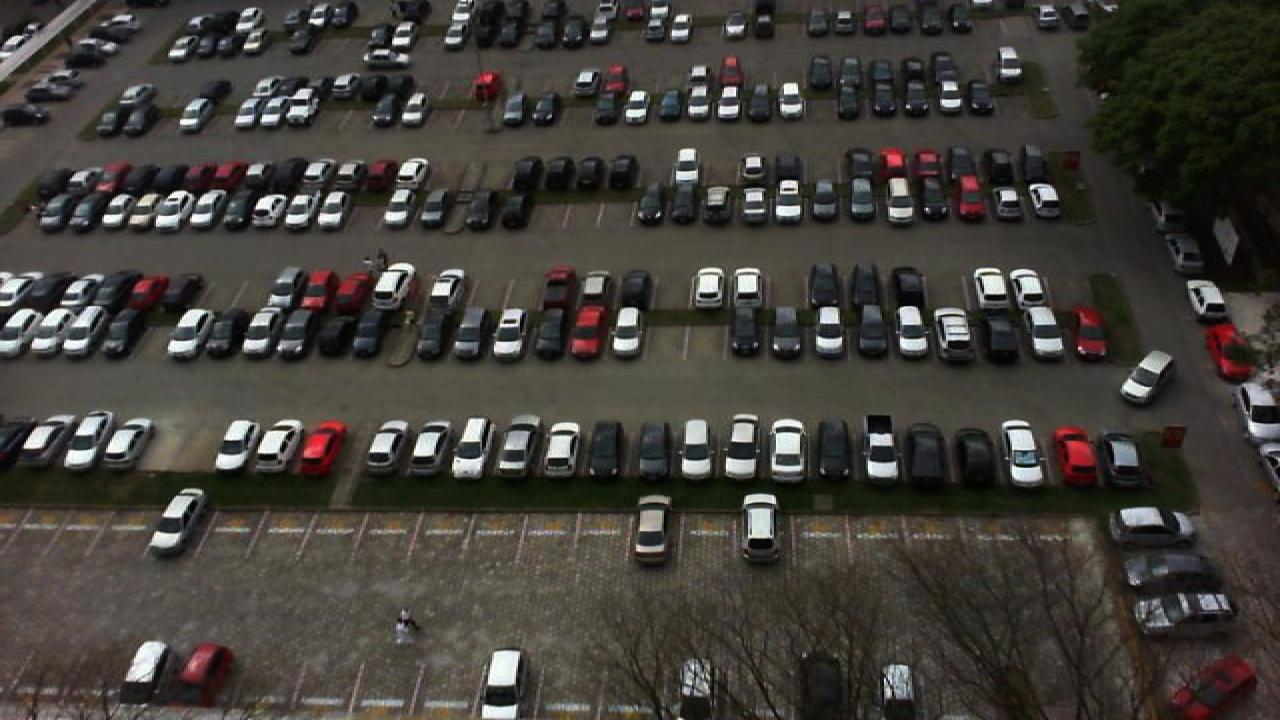Car: (1130, 588, 1236, 634), (146, 486, 212, 559), (1118, 549, 1218, 592), (120, 640, 178, 711), (174, 642, 230, 711), (996, 418, 1048, 490), (1108, 503, 1198, 544), (478, 649, 530, 719), (1050, 424, 1102, 491), (1200, 322, 1258, 382), (1114, 349, 1174, 406), (362, 418, 420, 476), (630, 495, 676, 566), (738, 491, 784, 562), (20, 413, 78, 469), (906, 422, 954, 489), (450, 415, 496, 482), (1100, 428, 1150, 489), (214, 416, 266, 474), (102, 417, 156, 472), (296, 420, 348, 477), (720, 413, 762, 483), (862, 413, 902, 486), (64, 408, 112, 468), (496, 418, 544, 478), (768, 417, 810, 485), (812, 417, 854, 485), (952, 426, 998, 488), (408, 420, 458, 477), (256, 418, 306, 474), (676, 420, 720, 482), (540, 419, 586, 478), (934, 306, 980, 364), (586, 419, 630, 478), (1068, 306, 1114, 362), (98, 305, 144, 360), (1182, 278, 1234, 326), (1024, 306, 1068, 362), (632, 419, 672, 480), (164, 308, 210, 361), (58, 307, 104, 359), (240, 308, 284, 361), (606, 306, 650, 359), (488, 305, 530, 360), (368, 261, 416, 309), (278, 307, 320, 361), (984, 306, 1024, 362), (26, 305, 68, 357), (392, 310, 434, 360), (434, 309, 474, 360), (570, 305, 606, 361), (352, 305, 388, 359), (894, 305, 930, 359), (728, 305, 764, 358), (772, 307, 808, 360), (954, 174, 992, 224), (534, 306, 568, 361), (54, 270, 98, 312), (34, 189, 76, 233), (262, 266, 302, 312), (208, 309, 244, 360), (316, 308, 352, 359), (812, 306, 846, 359), (854, 306, 888, 359), (0, 305, 36, 354), (94, 271, 136, 313), (428, 266, 468, 310), (806, 262, 844, 308), (770, 178, 806, 226), (124, 273, 166, 314), (22, 269, 64, 310), (1012, 266, 1050, 310), (664, 180, 700, 226), (162, 272, 202, 313), (890, 264, 926, 308), (732, 266, 768, 310), (690, 266, 726, 310), (334, 271, 370, 315), (300, 271, 336, 315), (884, 175, 916, 224), (990, 176, 1024, 222), (972, 268, 1010, 309), (66, 190, 104, 231), (124, 190, 162, 231), (1026, 181, 1064, 222), (498, 189, 534, 232), (850, 262, 884, 307), (614, 269, 652, 309), (98, 191, 136, 231), (538, 266, 574, 308), (252, 190, 288, 232), (846, 178, 878, 225), (314, 188, 350, 229), (382, 188, 418, 229), (918, 180, 952, 223), (576, 269, 612, 309), (154, 190, 190, 230), (444, 191, 480, 231), (810, 181, 842, 225), (282, 191, 316, 232), (414, 191, 448, 232), (736, 185, 770, 226), (188, 188, 222, 228), (222, 191, 256, 231), (700, 186, 734, 226), (634, 184, 666, 226), (96, 102, 132, 138), (286, 94, 320, 132), (530, 90, 564, 128), (744, 83, 776, 123), (684, 83, 714, 125), (232, 98, 266, 135), (964, 79, 996, 118), (498, 90, 530, 128), (930, 81, 962, 119), (714, 84, 744, 124), (124, 99, 156, 136), (398, 93, 430, 130), (600, 87, 630, 126), (260, 97, 292, 133), (370, 94, 402, 130), (838, 82, 868, 120), (868, 80, 896, 120), (900, 81, 928, 119), (178, 101, 210, 134), (654, 90, 684, 125), (776, 84, 804, 121), (626, 90, 654, 126)
